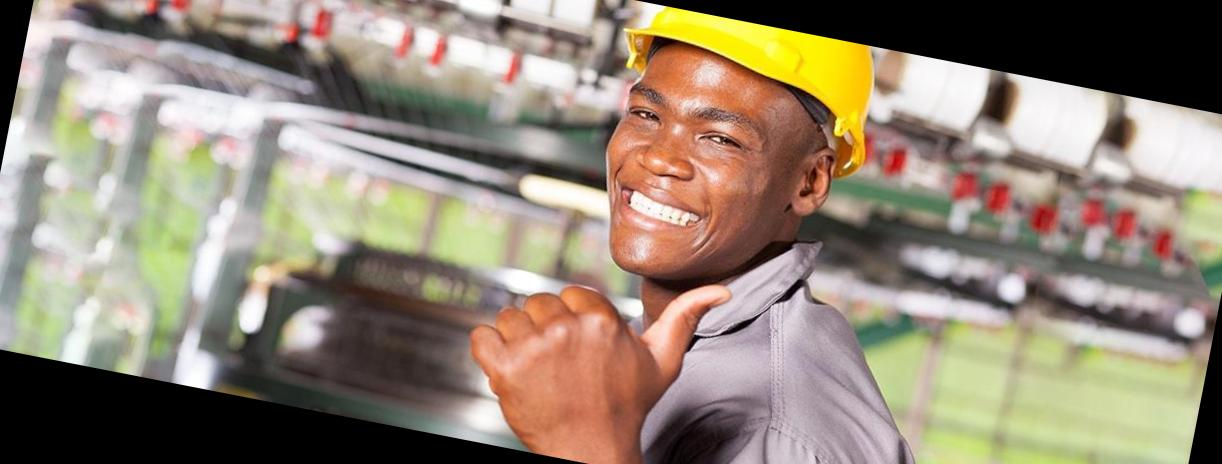helmet: (602, 0, 912, 183)
no_vest: (594, 242, 941, 464)
person: (536, 0, 1027, 464)
